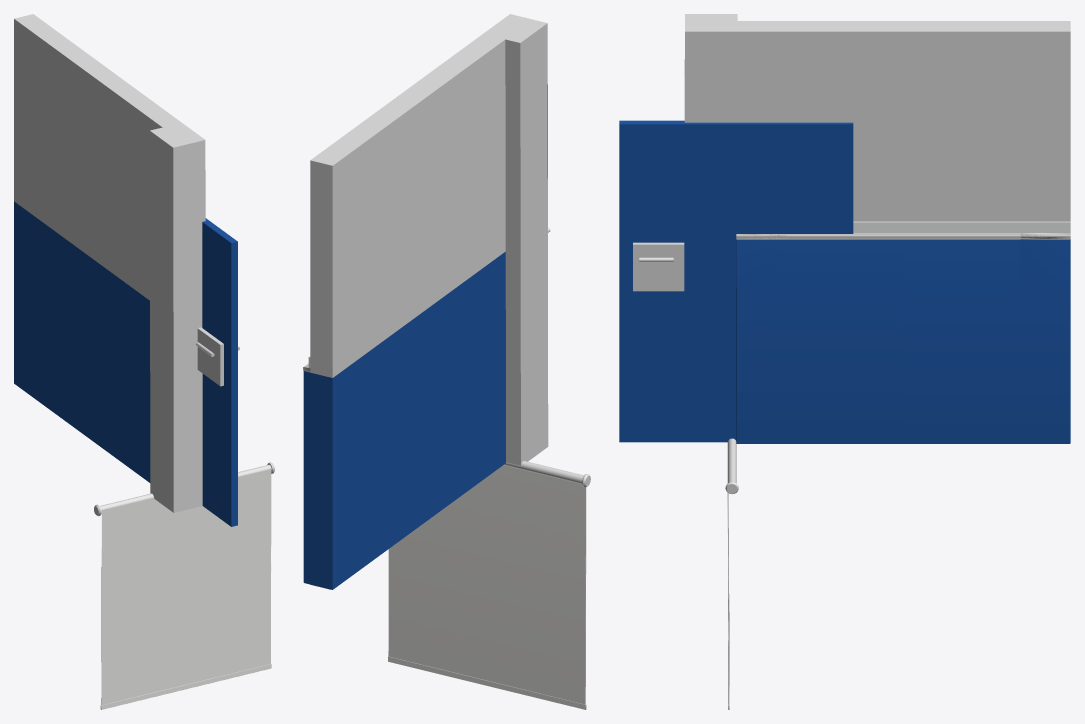
The model's file is Architecture_Modular.fbx.
3 views of the same model, side by side, from view 1: azimuth 30°, elevation 25°; view 2: azimuth 150°, elevation 25°; view 3: azimuth 270°, elevation 25° (orthographic). The views are drawn at different scales.
Parts seen in each view (by area): view 1: ClinicWallInterior, Window, Column, ClinicWallInteriorHalf, DoorClinic, ClinicWallDoor; view 2: ClinicWallInterior, Window, ClinicWallInteriorHalf, Column, ClinicWallDoor; view 3: ClinicWallInterior, ClinicWallInteriorHalf, DoorClinic, ClinicWallDoor, Column, ClinicWallExterior, Window.
Boxes of the visible parts, <box> form: ClinicWallInterior: <box>14,14,181,482</box>; Window: <box>94,462,274,709</box>; Column: <box>149,123,205,512</box>; ClinicWallInteriorHalf: <box>88,74,168,407</box>; DoorClinic: <box>196,218,239,526</box>; ClinicWallDoor: <box>14,14,181,127</box>; ClinicWallInterior: <box>304,34,505,589</box>; Window: <box>388,461,590,709</box>; ClinicWallInteriorHalf: <box>419,36,505,526</box>; Column: <box>484,14,548,465</box>; ClinicWallDoor: <box>303,33,504,589</box>; ClinicWallInterior: <box>736,21,1070,443</box>; ClinicWallInteriorHalf: <box>736,21,903,443</box>; DoorClinic: <box>619,120,853,442</box>; ClinicWallDoor: <box>736,21,1070,443</box>; Column: <box>684,14,737,122</box>; ClinicWallExterior: <box>853,221,1070,232</box>; Window: <box>725,438,738,709</box>.
Bounding box in the file's own units: 1.37 × 4.17 × 2.7.
